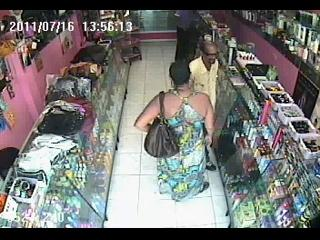Normal: (133, 59, 215, 202), (144, 91, 180, 159), (188, 41, 220, 114)
